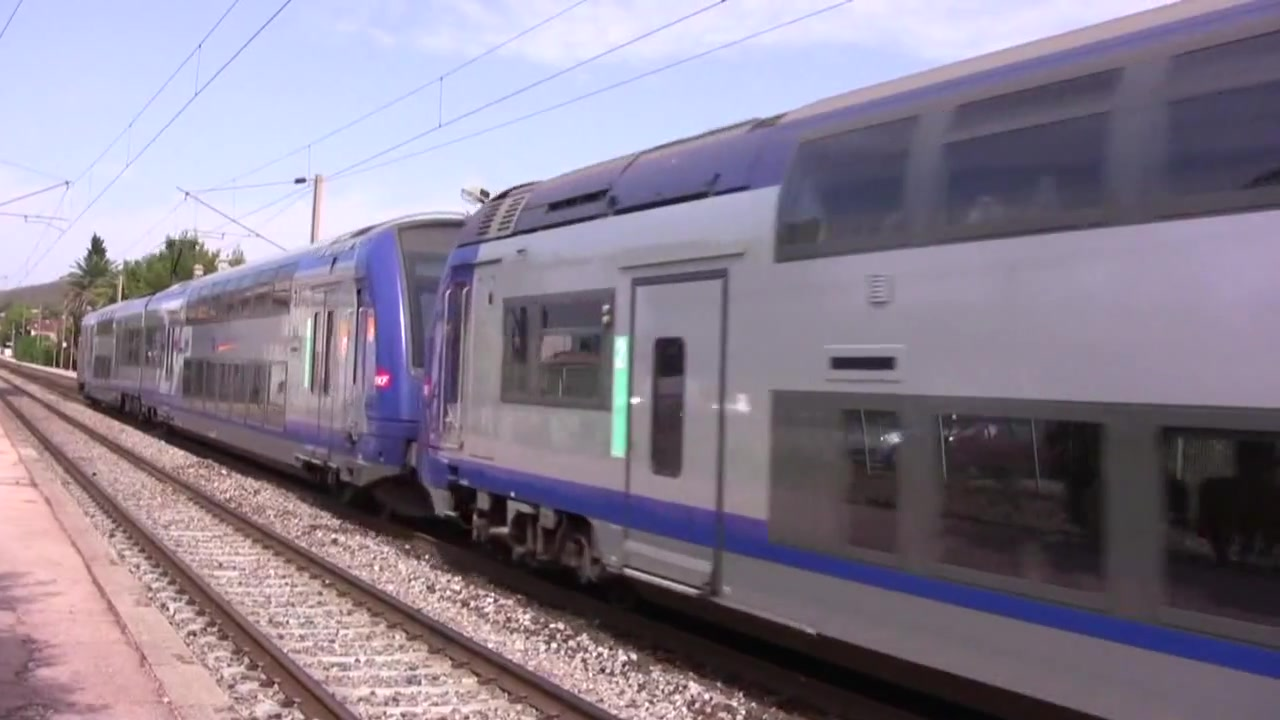train: (73, 1, 1280, 720)
